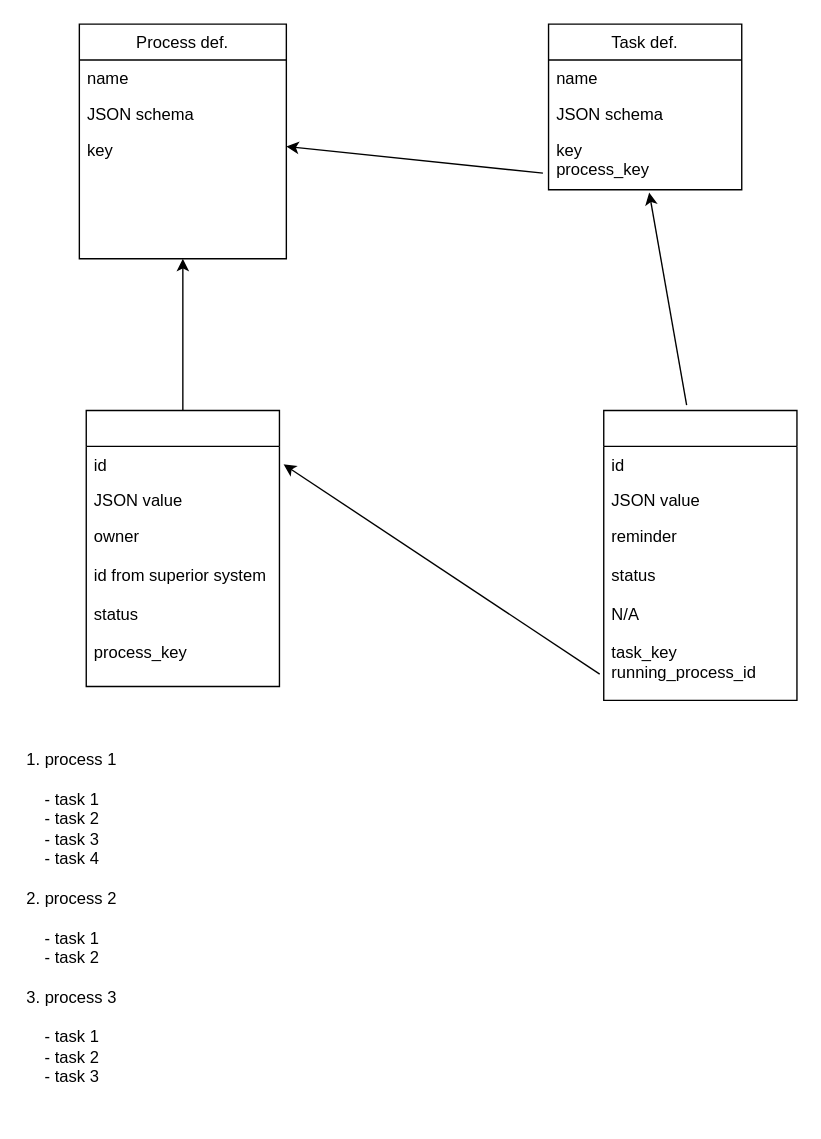
Some shapes in this 821 by 1139 pixel diagram are drawn without their labels. The shapes that lost their labels are listed below. From the top down, each one's box as (x1, y1, x2, y2) in pixels, then its label:
(85, 409, 279, 687): Running process
(602, 409, 797, 700): Running task
